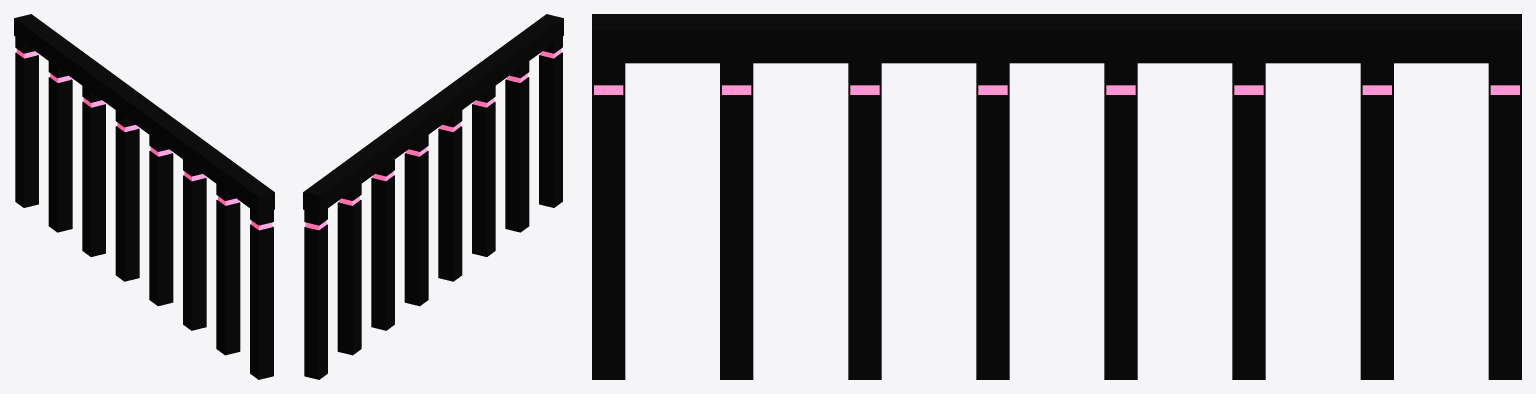
Rendered from railing.fbx.
3 views of the same model, side by side, from view 1: azimuth 30°, elevation 25°; view 2: azimuth 150°, elevation 25°; view 3: azimuth 270°, elevation 25° (orthographic). The views are drawn at different scales.
Parts seen in each view (by area): view 1: Cube.001; view 2: Cube.001; view 3: Cube.001.
Boxes of the visible parts, bbox=[...] form: Cube.001: bbox=[14, 14, 274, 379]; Cube.001: bbox=[303, 14, 563, 379]; Cube.001: bbox=[592, 14, 1521, 379].
Size of the model in its own units: 25.41 by 258 by 619.
